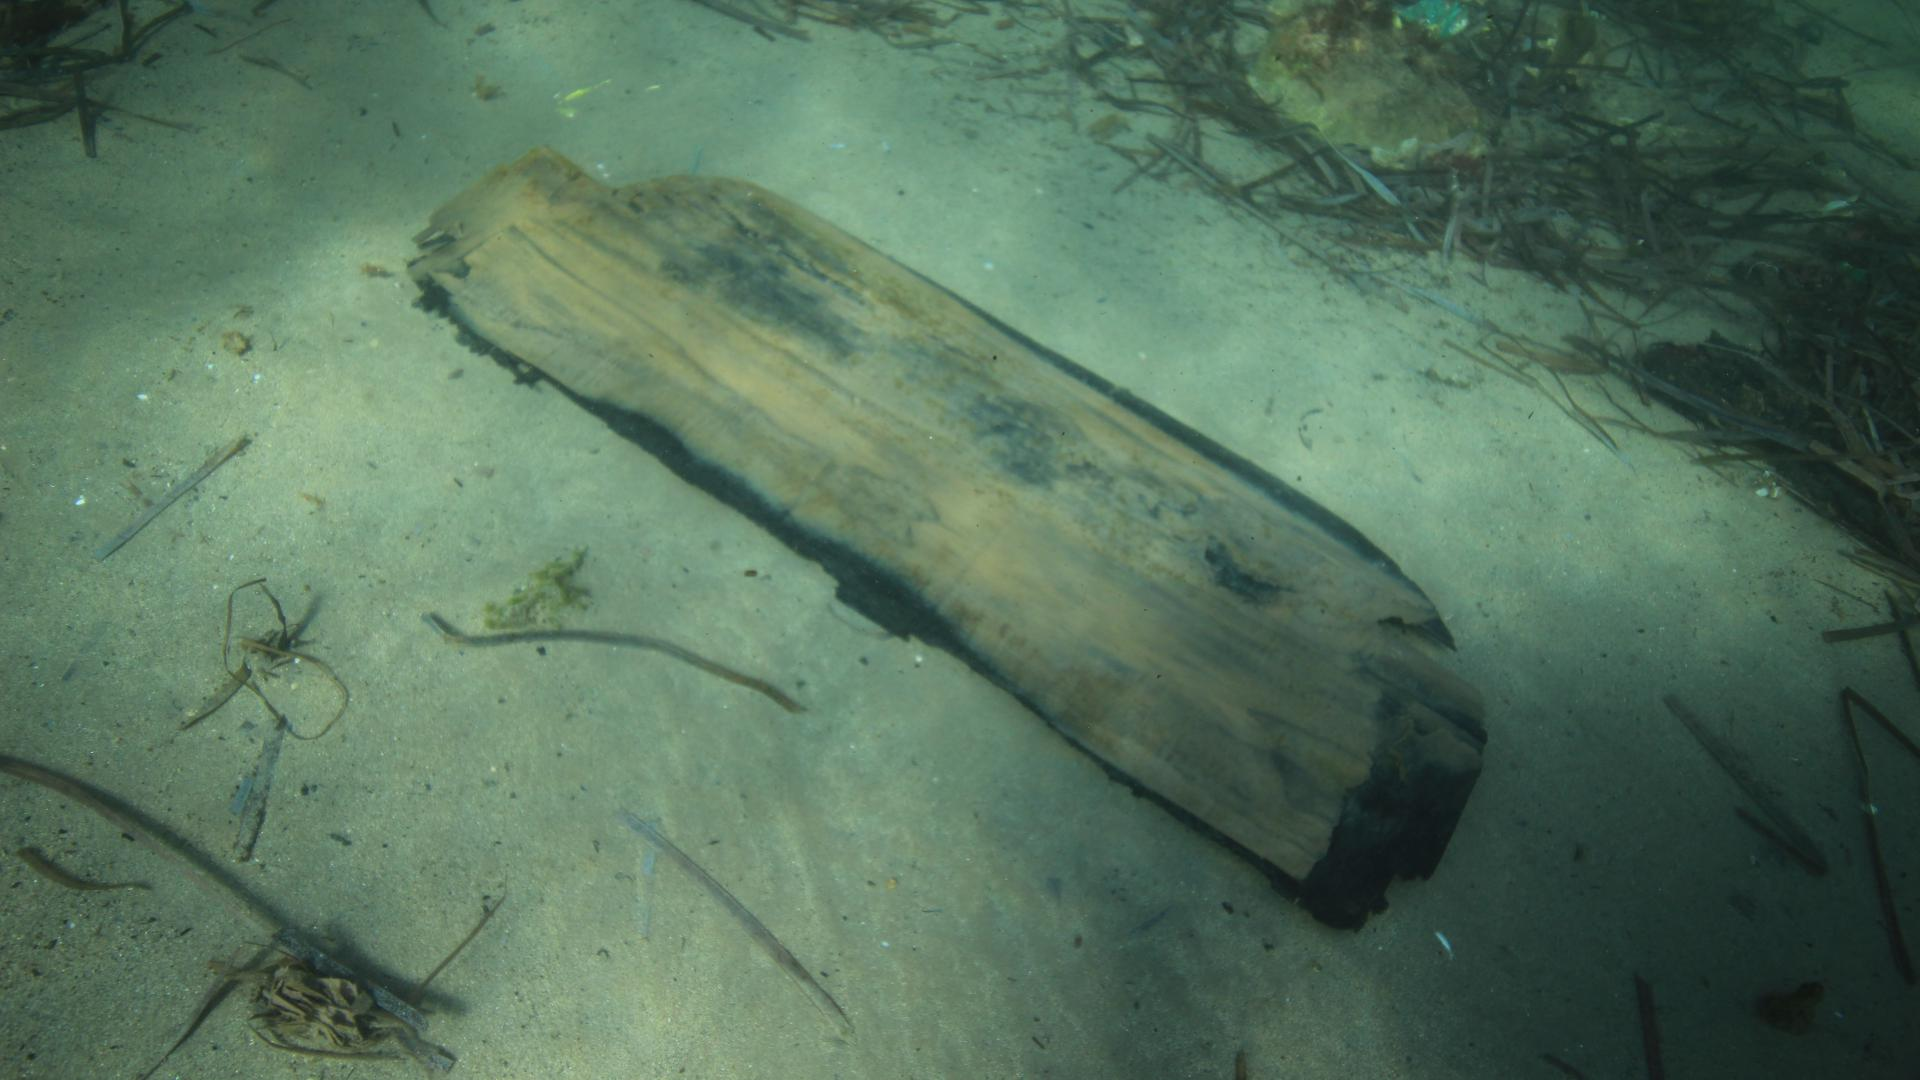wood: (404, 142, 1487, 930)
